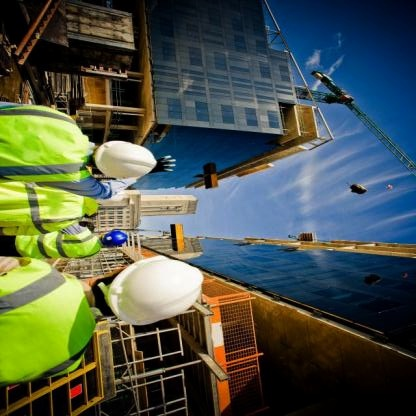blue: (101, 226, 132, 250)
vest: (3, 247, 96, 391), (1, 103, 91, 187), (1, 178, 98, 236), (7, 222, 106, 264)
white: (110, 254, 207, 330), (87, 134, 156, 183)
